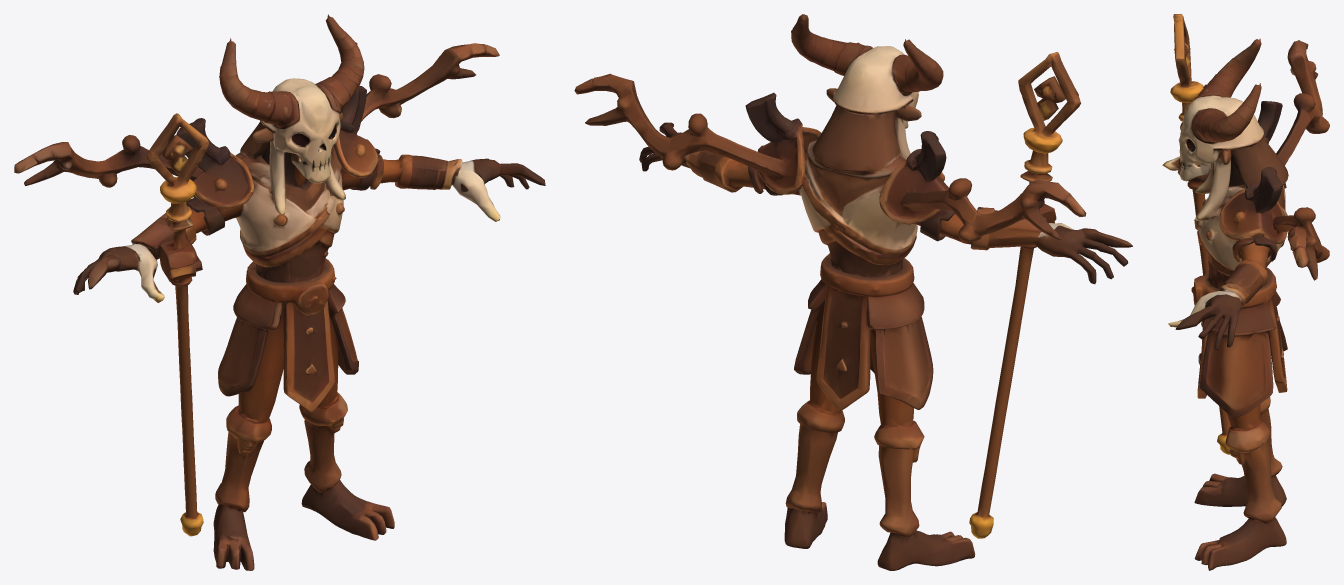
The model's file is boss_erlik.glb.
3 views of the same model, side by side, from view 1: azimuth 30°, elevation 25°; view 2: azimuth 150°, elevation 25°; view 3: azimuth 270°, elevation 25° (orthographic). The views are drawn at different scales.
Parts seen in each view (by area): view 1: tripo_node_01158c2a-e46c-4a93-afd6-59dbdc290828; view 2: tripo_node_01158c2a-e46c-4a93-afd6-59dbdc290828; view 3: tripo_node_01158c2a-e46c-4a93-afd6-59dbdc290828.
Part boxes in pixels (left/top/right/bottom): tripo_node_01158c2a-e46c-4a93-afd6-59dbdc290828: left=14, top=14, right=545, bottom=570; tripo_node_01158c2a-e46c-4a93-afd6-59dbdc290828: left=574, top=14, right=1132, bottom=570; tripo_node_01158c2a-e46c-4a93-afd6-59dbdc290828: left=1162, top=14, right=1329, bottom=570.
Bounding box in the file's own units: 1 × 0.9946 × 0.321.
Materials: 1 (1 with a texture image).
